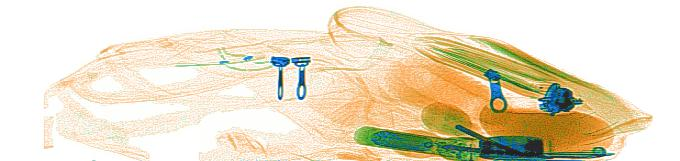battery: (367, 129, 436, 154)
